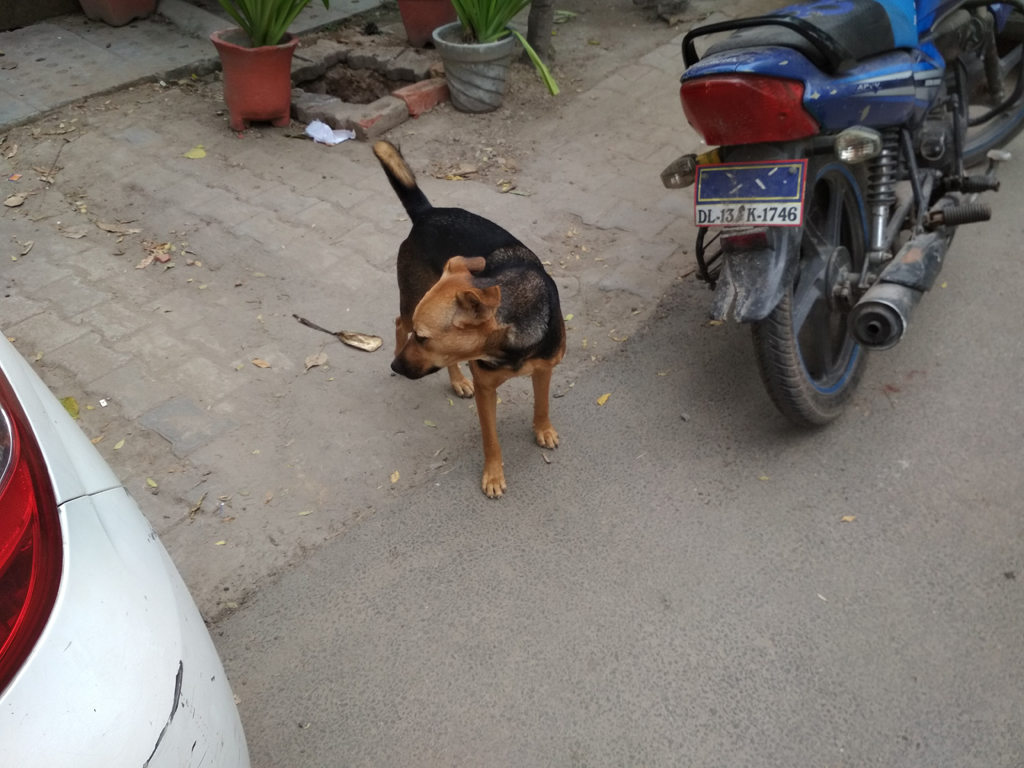dog: (372, 139, 567, 499)
